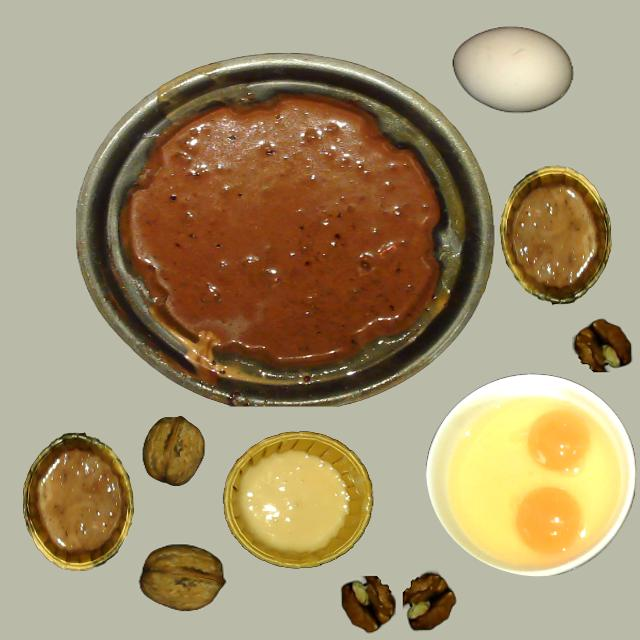Egg: (482, 397, 612, 490), (503, 483, 598, 561)
Walnut: (139, 544, 225, 610), (142, 418, 204, 486)
